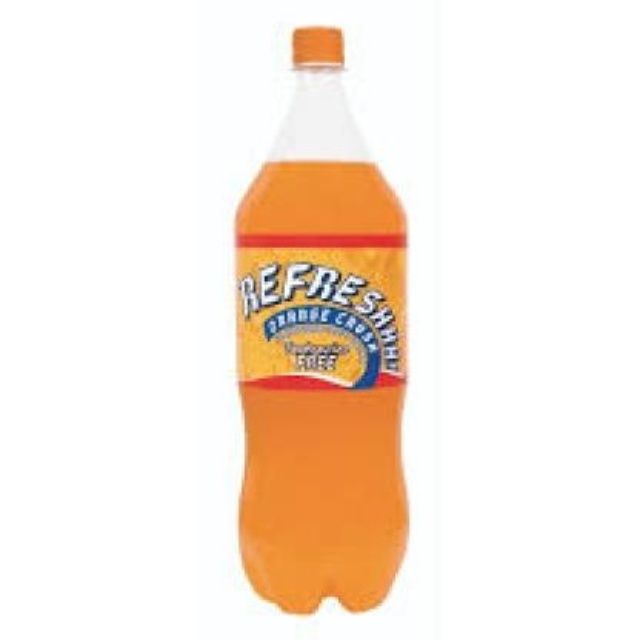trash: (235, 26, 406, 612)
